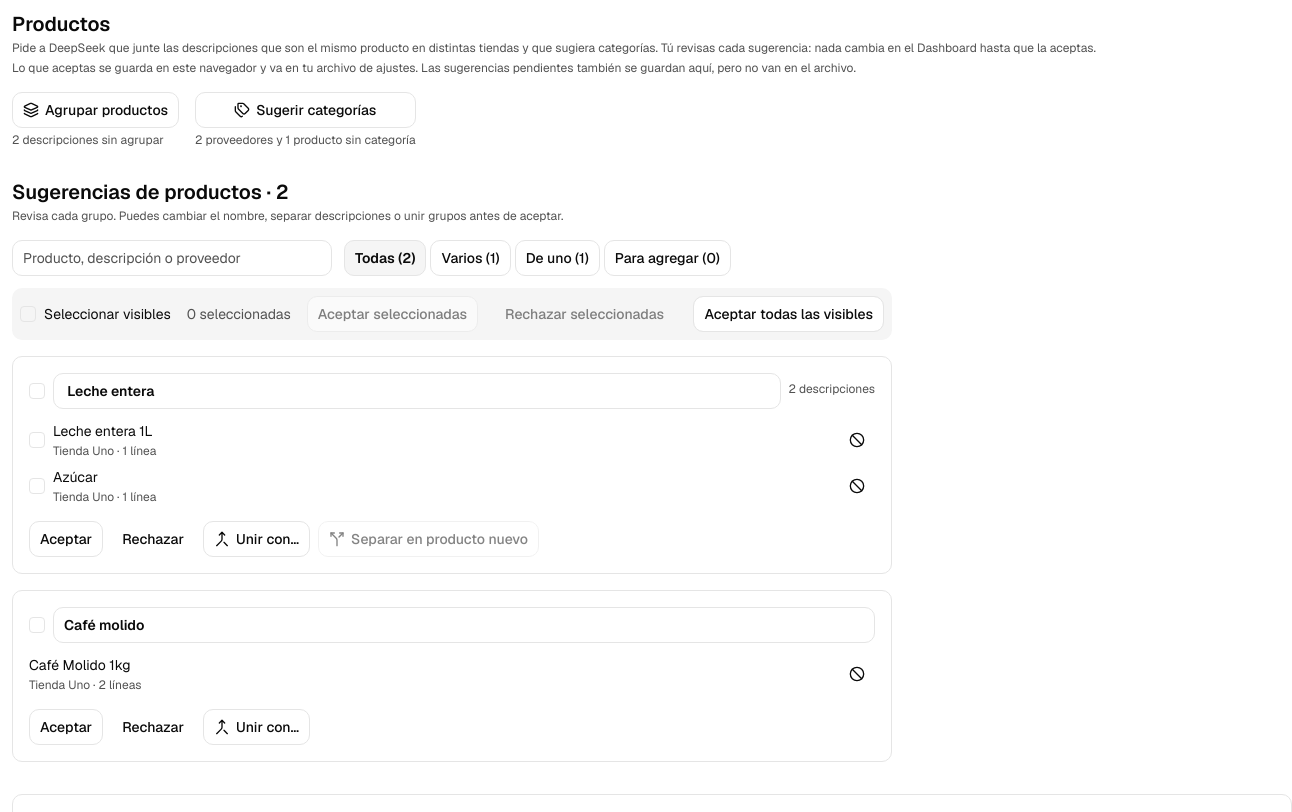
it: E4: a refused accept keeps the card and says why › a name that another product already has
Click the button with aria-label "Aceptar la sugerencia". click: [66, 539]
box: [29,521,103,557]
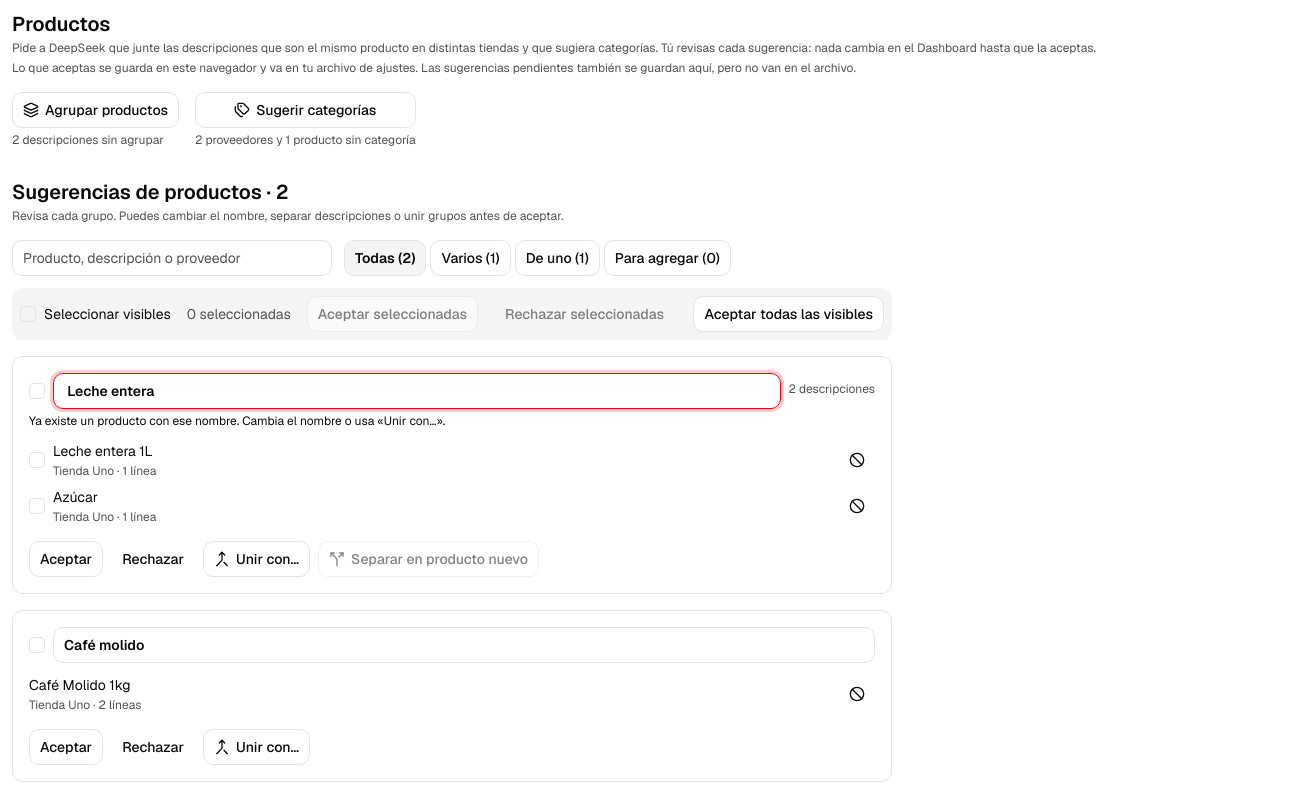
Expected: the text "Ya existe un producto con ese nombre. Cambia el nombre o usa «Unir con…»." is shown, [29,413,445,429]
